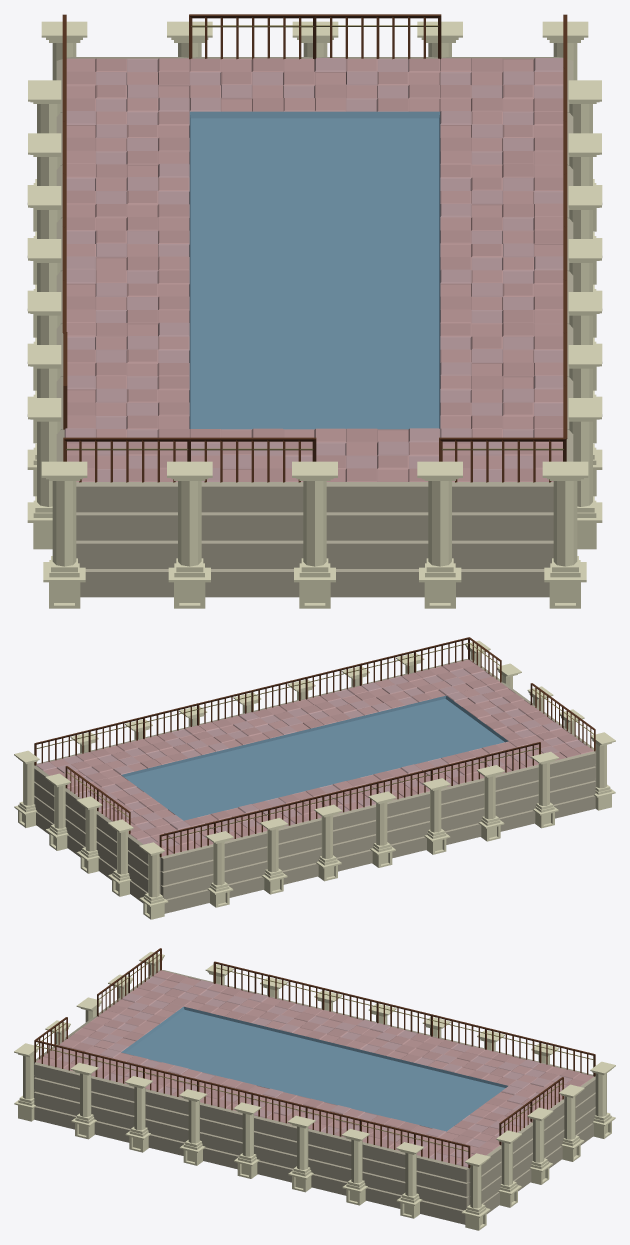
File: Map_CentralSection.fbx
The picture shows the model from 3 angles, top to bottom: view 1: azimuth 30°, elevation 25°; view 2: azimuth 150°, elevation 25°; view 3: azimuth 270°, elevation 25°; orthographic projection. The views are drawn at different scales.
Visible parts, largest first — view 1: MSH_Square_Pool, MSH_Square_WallCorner1, MSH_Square_WallCorner2, MSH_Square_WallStraight1, MSH_Square_WallStraight2, MSH_Square_GroundTiles19, MSH_Square_GroundTiles20, MSH_Square_GroundTiles10, MSH_Square_GroundTiles13, MSH_Square_GroundTiles9, MSH_Square_GroundTiles16, MSH_Square_GroundTiles17 (+42 smaller); view 2: MSH_Square_Pool, MSH_Square_WallCorner3, MSH_Square_WallCorner1, MSH_Square_WallStraight7, MSH_Square_WallStraight3, MSH_Square_WallStraight4, MSH_Square_WallStraight8, MSH_Square_WallStraight6, MSH_Square_WallStraight5, MSH_Square_GroundTiles15, MSH_Square_GroundTiles16, MSH_Square_GroundTiles14 (+52 smaller); view 3: MSH_Square_Pool, MSH_Square_WallCorner4, MSH_Square_WallCorner2, MSH_Square_WallStraight13, MSH_Square_WallStraight9, MSH_Square_WallStraight10, MSH_Square_WallStraight14, MSH_Square_WallStraight12, MSH_Square_WallStraight11, MSH_Square_GroundTiles6, MSH_Square_GroundTiles11, MSH_Square_GroundTiles9 (+52 smaller).
Part boxes in pixels (x1=…): MSH_Square_Pool: x1=189, y1=111, x2=440, y2=429; MSH_Square_WallCorner1: x1=56, y1=429, x2=177, y2=597; MSH_Square_WallCorner2: x1=452, y1=429, x2=573, y2=597; MSH_Square_WallStraight1: x1=201, y1=482, x2=303, y2=597; MSH_Square_WallStraight2: x1=326, y1=482, x2=428, y2=597; MSH_Square_GroundTiles19: x1=315, y1=58, x2=440, y2=111; MSH_Square_GroundTiles20: x1=189, y1=58, x2=314, y2=111; MSH_Square_GroundTiles10: x1=66, y1=163, x2=189, y2=217; MSH_Square_GroundTiles13: x1=440, y1=269, x2=563, y2=323; MSH_Square_GroundTiles9: x1=66, y1=217, x2=189, y2=270; MSH_Square_GroundTiles16: x1=440, y1=164, x2=563, y2=217; MSH_Square_GroundTiles17: x1=440, y1=111, x2=563, y2=164; MSH_Square_Pool: x1=121, y1=695, x2=508, y2=820; MSH_Square_WallCorner3: x1=128, y1=834, x2=213, y2=913; MSH_Square_WallCorner1: x1=550, y1=728, x2=595, y2=818; MSH_Square_WallStraight7: x1=278, y1=817, x2=321, y2=884; MSH_Square_WallStraight3: x1=495, y1=765, x2=538, y2=831; MSH_Square_WallStraight4: x1=441, y1=778, x2=484, y2=844; MSH_Square_WallStraight8: x1=224, y1=831, x2=267, y2=897; MSH_Square_WallStraight6: x1=333, y1=804, x2=375, y2=871; MSH_Square_WallStraight5: x1=387, y1=791, x2=429, y2=858; MSH_Square_GroundTiles15: x1=198, y1=712, x2=283, y2=748; MSH_Square_GroundTiles16: x1=144, y1=725, x2=228, y2=761; MSH_Square_GroundTiles14: x1=307, y1=686, x2=391, y2=721; MSH_Square_Pool: x1=121, y1=1006, x2=507, y2=1131; MSH_Square_WallCorner4: x1=416, y1=1145, x2=501, y2=1224; MSH_Square_WallCorner2: x1=34, y1=1039, x2=79, y2=1129; MSH_Square_WallStraight13: x1=308, y1=1128, x2=351, y2=1195; MSH_Square_WallStraight9: x1=91, y1=1076, x2=134, y2=1142; MSH_Square_WallStraight10: x1=145, y1=1089, x2=188, y2=1155; MSH_Square_WallStraight14: x1=362, y1=1142, x2=405, y2=1208; MSH_Square_WallStraight12: x1=254, y1=1115, x2=296, y2=1182; MSH_Square_WallStraight11: x1=200, y1=1102, x2=242, y2=1169; MSH_Square_GroundTiles6: x1=184, y1=983, x2=268, y2=1019; MSH_Square_GroundTiles11: x1=455, y1=1049, x2=539, y2=1085; MSH_Square_GroundTiles9: x1=346, y1=1023, x2=431, y2=1059.
Bounding box in the file's own units: 3229 × 554 × 3846.
